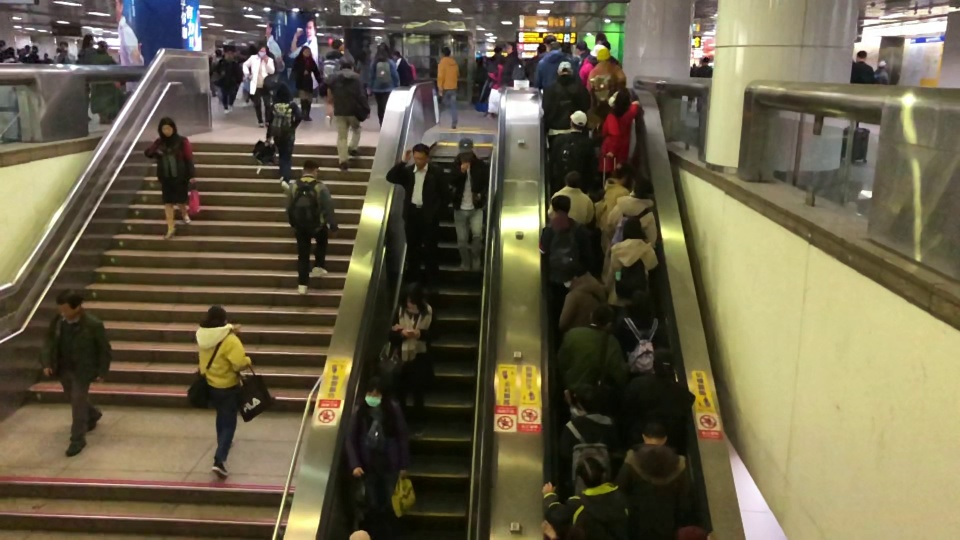person_head: (54, 286, 81, 320), (569, 385, 598, 416), (575, 457, 603, 486), (362, 375, 384, 405), (652, 347, 674, 377), (606, 88, 631, 112), (589, 303, 613, 328), (548, 193, 573, 216), (630, 292, 654, 315), (401, 284, 422, 310), (156, 115, 179, 138), (642, 422, 665, 445), (621, 218, 645, 240), (568, 255, 590, 278), (630, 176, 652, 198), (412, 141, 430, 167), (568, 110, 586, 133), (206, 305, 226, 325), (274, 81, 293, 102), (302, 158, 319, 177), (458, 138, 472, 160), (619, 165, 635, 184), (565, 170, 582, 187), (590, 44, 607, 60), (557, 60, 572, 75), (596, 47, 611, 61), (377, 43, 391, 57), (338, 57, 353, 70), (331, 38, 343, 53), (855, 47, 867, 62), (576, 40, 587, 56), (81, 33, 93, 47), (298, 44, 310, 57), (506, 43, 518, 55), (223, 48, 234, 60), (546, 41, 559, 51), (257, 44, 268, 55), (439, 46, 450, 57), (536, 44, 548, 54), (98, 38, 106, 52), (492, 45, 503, 54), (60, 42, 69, 52), (392, 50, 400, 61), (0, 39, 5, 50), (31, 44, 37, 53), (702, 57, 708, 65), (879, 60, 885, 68), (44, 51, 48, 60)
person_vbox: (39, 286, 114, 458), (343, 374, 410, 533), (196, 304, 253, 479), (387, 143, 450, 293), (617, 420, 692, 535), (388, 284, 438, 438), (540, 457, 630, 540), (286, 158, 339, 296), (143, 115, 197, 238), (557, 303, 625, 390), (602, 175, 658, 279), (629, 346, 695, 434), (559, 384, 615, 486), (448, 137, 490, 271), (606, 217, 658, 312), (327, 57, 370, 169), (540, 194, 591, 288), (617, 292, 670, 375), (265, 81, 302, 193), (597, 87, 639, 183), (542, 61, 591, 141), (550, 111, 599, 188), (594, 164, 635, 255), (558, 255, 604, 331), (586, 47, 628, 128), (241, 44, 276, 126), (547, 170, 594, 224), (369, 43, 399, 127), (90, 43, 121, 123), (534, 41, 578, 90), (323, 39, 347, 128), (436, 46, 460, 133), (294, 45, 321, 120), (579, 44, 618, 90), (852, 52, 875, 130), (216, 49, 241, 110), (501, 43, 525, 84), (696, 56, 713, 113), (392, 51, 413, 86), (77, 32, 95, 66), (873, 61, 891, 87), (55, 44, 77, 64), (0, 39, 12, 63)
